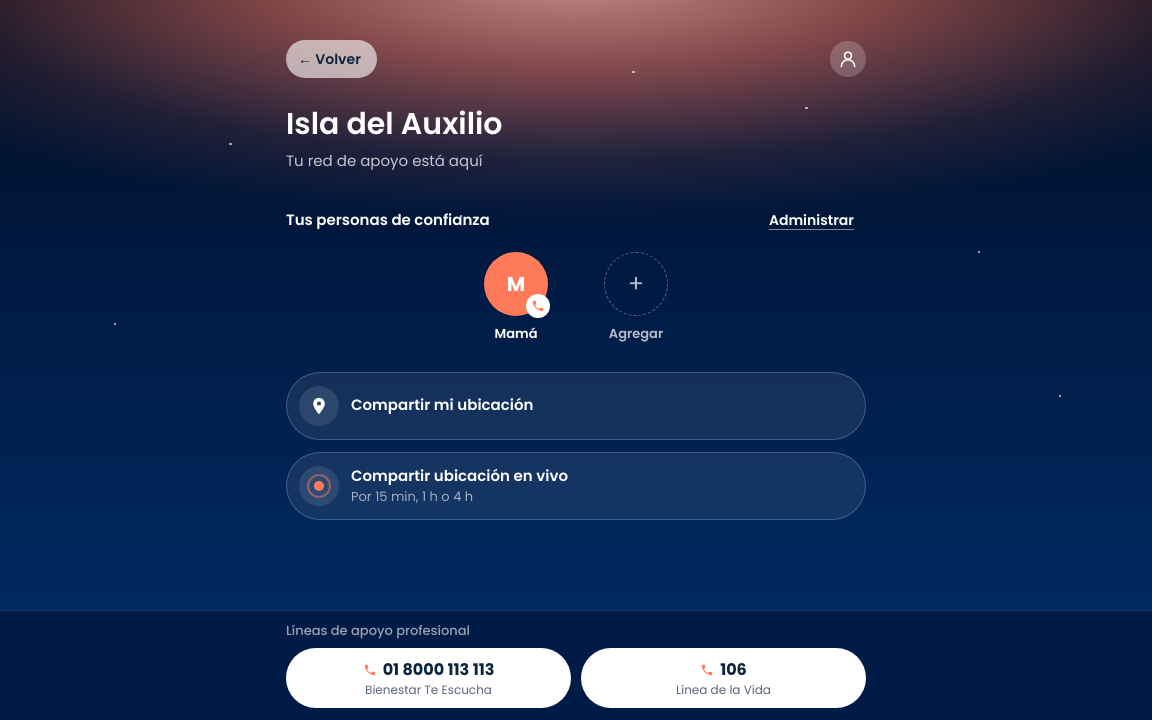
Test: Isla del Auxilio con sesión: marcación rápida › "Administrar" muestra Editar y Eliminar con confirmación en dos pasos
This screenshot has width=1152, height=720.
Step 1. Click the button "Administrar" → point(811, 220), box [757,204,866,236]
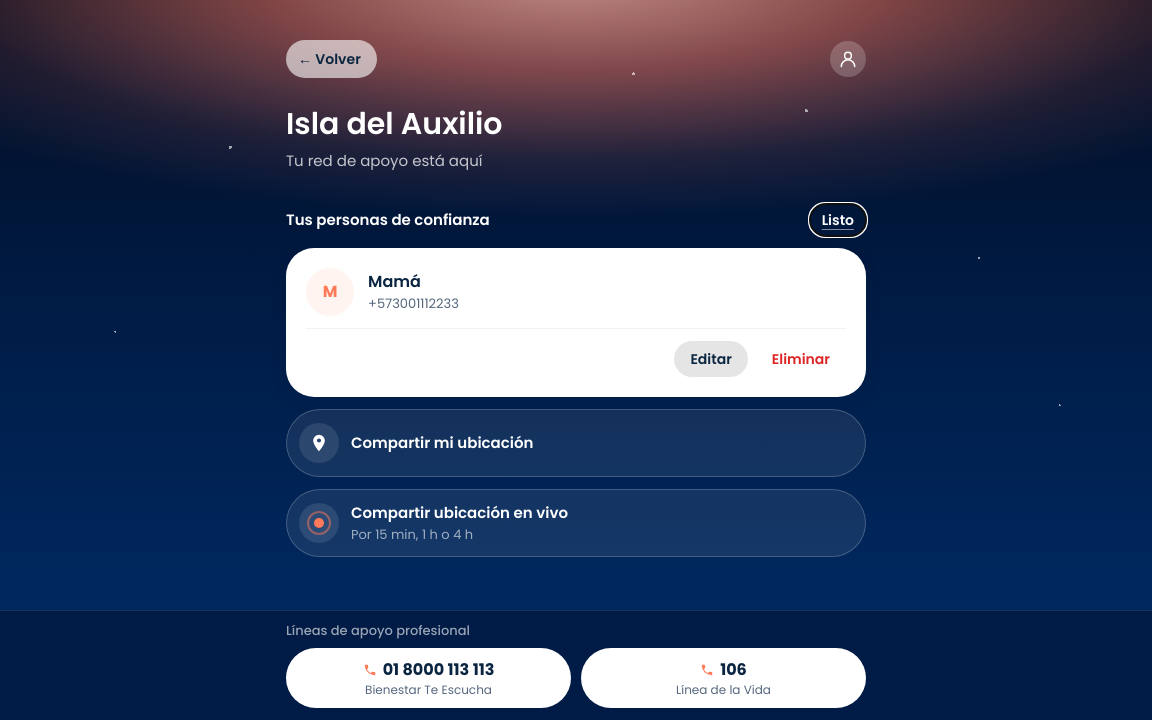
Expected: the button with aria-label "Editar a Mamá" is shown, [674,341,748,377]
Step 2. Click the button with aria-label "Eliminar a Mamá" → point(801, 359), box [756,341,846,377]
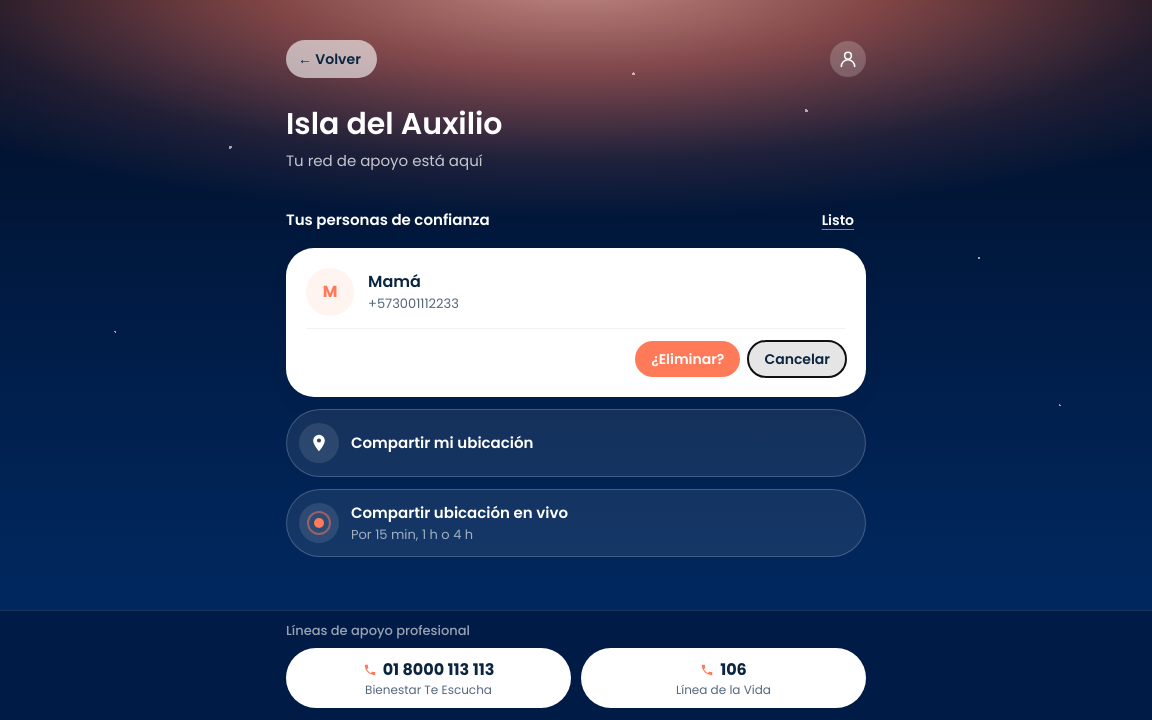
Expected: the button "¿Eliminar?" is shown, [635,341,740,377]
